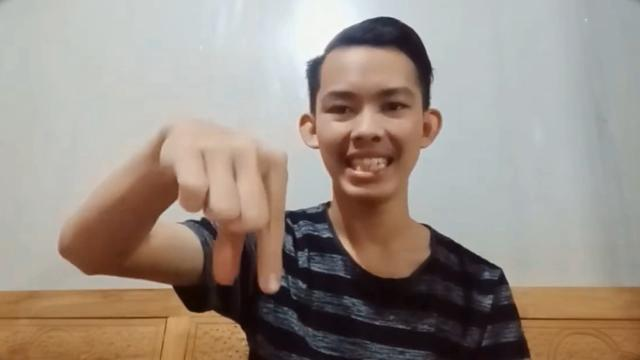Q: (152, 110, 296, 301)
